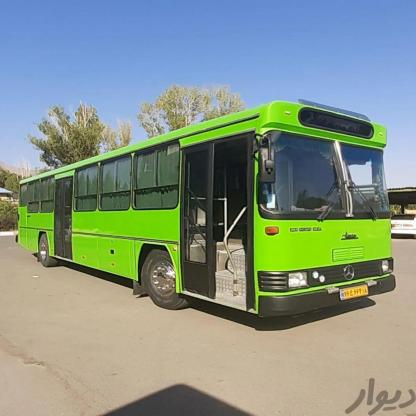Bus: (7, 93, 402, 322)
